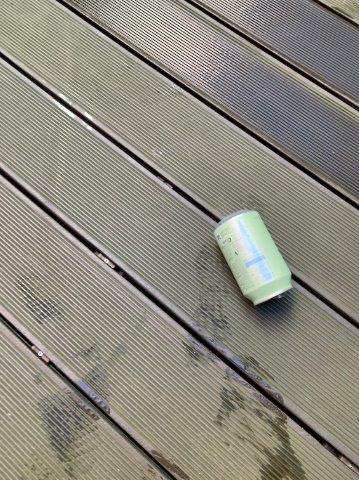kaleng: (214, 211, 292, 305)
